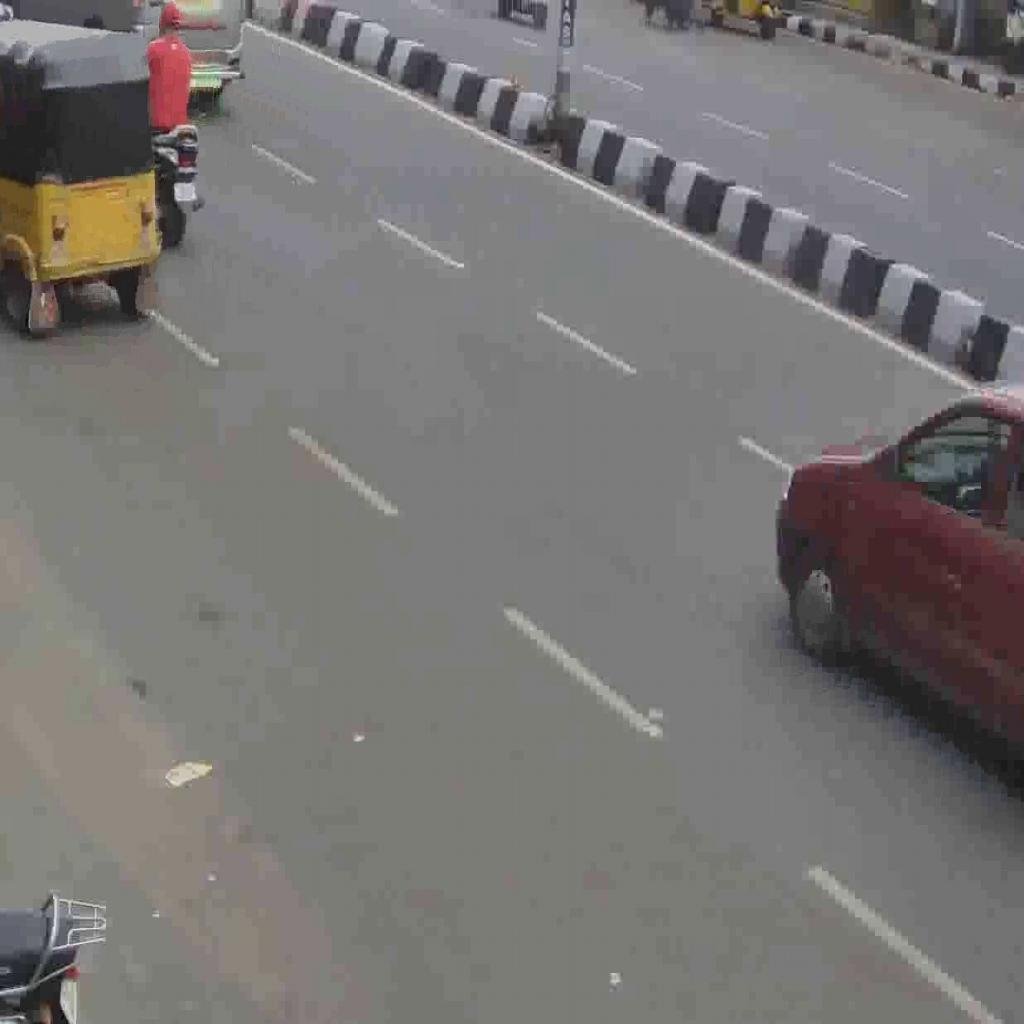helmet: (151, 120, 207, 250)
